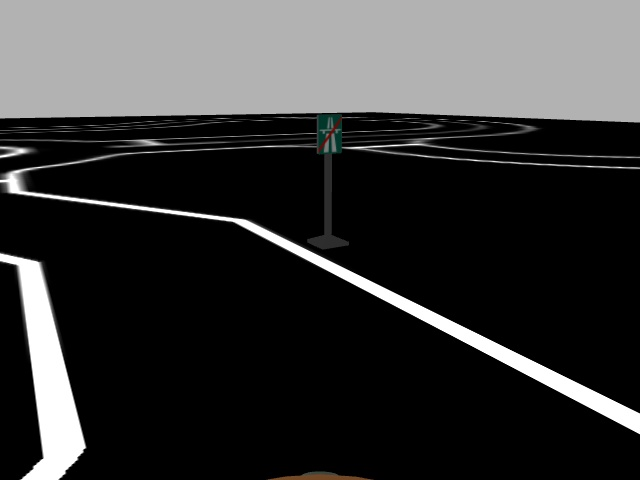leave_highway: (315, 114, 343, 156)
